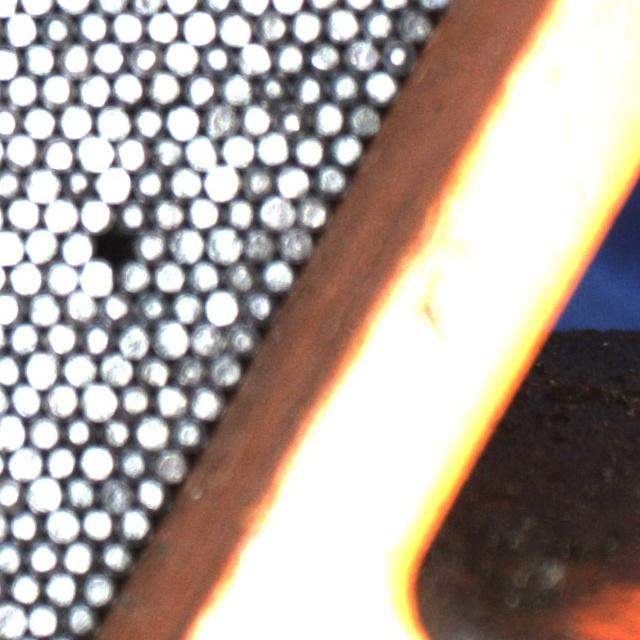tool: (80, 382, 116, 419), (95, 166, 131, 202), (146, 68, 182, 104), (258, 193, 294, 229), (76, 134, 112, 170), (185, 193, 221, 229), (44, 381, 80, 417), (7, 444, 42, 481), (21, 40, 56, 76), (181, 8, 216, 44), (26, 474, 61, 510), (43, 318, 78, 354), (206, 226, 241, 262), (6, 194, 41, 230), (132, 289, 168, 324), (57, 42, 92, 78), (113, 134, 148, 170), (58, 102, 93, 138), (95, 104, 130, 140), (61, 351, 96, 387), (43, 506, 79, 541), (79, 443, 114, 478), (99, 351, 134, 386), (77, 71, 112, 106), (42, 196, 77, 231), (254, 8, 289, 43), (98, 477, 133, 512), (24, 166, 59, 201), (220, 132, 255, 167), (24, 226, 59, 261), (203, 101, 238, 136), (40, 135, 75, 170), (6, 319, 41, 354), (222, 195, 257, 230), (326, 68, 361, 103), (169, 226, 204, 261), (324, 6, 359, 41), (7, 259, 42, 294), (165, 103, 200, 138), (189, 321, 224, 356), (278, 225, 313, 260), (239, 162, 274, 197), (38, 9, 73, 44), (80, 570, 115, 605), (92, 38, 126, 74), (154, 320, 188, 356), (26, 538, 60, 574), (152, 446, 186, 482), (134, 353, 170, 387), (242, 224, 276, 260), (8, 380, 42, 416), (61, 538, 95, 574), (25, 351, 59, 386), (168, 164, 202, 199), (78, 196, 112, 231), (44, 570, 78, 605), (43, 444, 78, 478), (27, 413, 61, 448), (203, 164, 238, 198), (343, 36, 378, 70), (184, 134, 218, 169), (116, 322, 151, 356), (44, 259, 78, 294), (275, 163, 310, 197), (169, 290, 204, 324), (110, 70, 144, 105), (164, 39, 198, 74), (200, 41, 234, 76), (146, 8, 181, 42), (127, 40, 162, 74), (3, 10, 37, 45), (80, 320, 114, 355), (4, 132, 38, 167), (150, 195, 184, 230), (27, 290, 61, 325), (132, 166, 166, 201), (39, 72, 74, 106), (183, 71, 217, 106), (152, 257, 186, 292), (63, 287, 97, 322), (295, 192, 329, 227), (100, 413, 134, 448), (239, 100, 273, 135), (171, 352, 206, 386), (136, 414, 170, 449), (115, 444, 150, 478), (110, 9, 145, 43), (59, 229, 94, 263), (236, 39, 270, 74), (63, 474, 97, 509), (223, 258, 258, 292), (131, 104, 165, 139), (312, 161, 346, 196), (218, 10, 252, 44), (26, 602, 60, 636), (204, 289, 238, 323), (78, 260, 112, 294), (4, 72, 38, 106), (272, 40, 306, 74), (220, 71, 254, 105), (8, 570, 42, 604), (292, 132, 326, 166), (307, 39, 341, 73), (80, 506, 114, 540), (310, 100, 344, 134), (76, 8, 110, 42), (116, 259, 150, 293), (256, 130, 290, 164), (118, 380, 152, 414), (291, 70, 325, 104), (154, 382, 188, 416), (22, 104, 56, 138), (186, 258, 220, 292), (7, 508, 41, 542), (207, 352, 241, 386), (257, 69, 291, 103), (116, 504, 150, 538), (63, 600, 97, 634), (60, 164, 94, 198), (260, 257, 294, 291), (348, 102, 382, 136), (329, 131, 363, 165), (99, 538, 133, 572), (225, 318, 258, 353), (395, 7, 430, 40), (63, 412, 96, 447), (133, 227, 167, 260), (99, 289, 132, 323), (150, 134, 183, 168), (289, 7, 322, 41), (274, 102, 308, 135), (114, 197, 148, 230), (134, 476, 168, 509), (363, 67, 396, 101), (360, 6, 393, 39), (171, 414, 204, 447), (240, 287, 273, 320), (379, 36, 411, 69), (189, 386, 221, 419), (0, 602, 26, 637), (0, 412, 24, 448), (0, 539, 25, 573), (0, 350, 23, 386), (0, 228, 23, 264), (0, 474, 24, 508), (0, 290, 23, 324), (0, 166, 23, 200), (0, 102, 20, 136), (0, 44, 19, 79), (20, 0, 54, 14), (94, 0, 128, 13)
